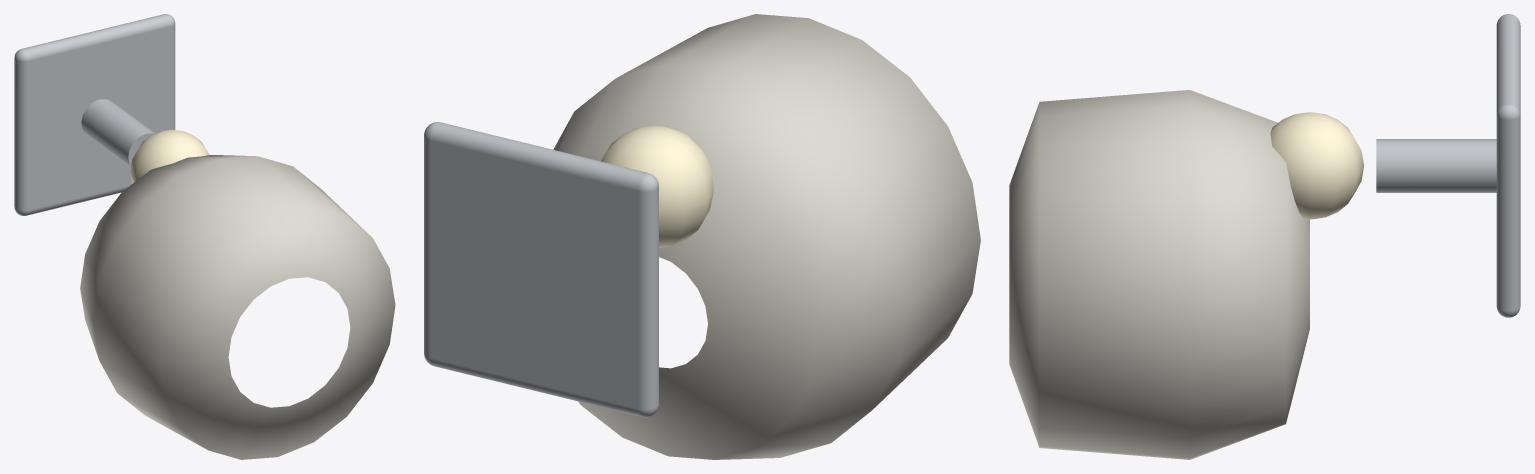
Rendered from sconce.glb.
3 renders of one model, left to right at view 1: azimuth 30°, elevation 25°; view 2: azimuth 150°, elevation 25°; view 3: azimuth 270°, elevation 25°, orthographic. The views are drawn at different scales.
Parts seen in each view (by area): view 1: Shade, sconce; view 2: Shade, sconce; view 3: Shade, sconce.
Boxes of the visible parts, <box> form: Shade: <box>80,155,395,459</box>; sconce: <box>14,14,209,215</box>; Shade: <box>553,14,980,459</box>; sconce: <box>424,122,713,417</box>; Shade: <box>1009,90,1309,459</box>; sconce: <box>1270,14,1520,317</box>.
Bounding box in the file's own units: 0.124 × 0.141 × 0.17.
